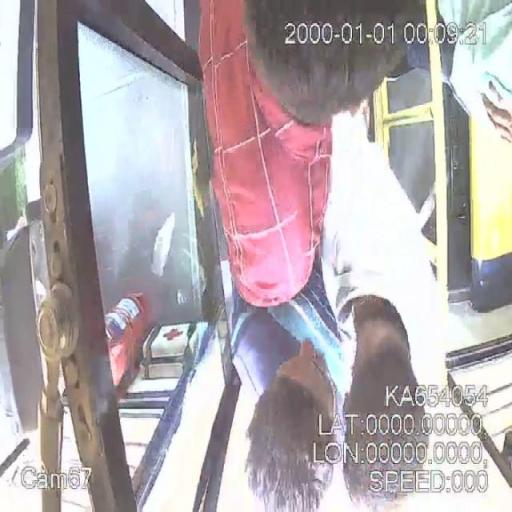persona: (194, 0, 390, 310), (336, 118, 449, 512), (227, 323, 340, 512)
